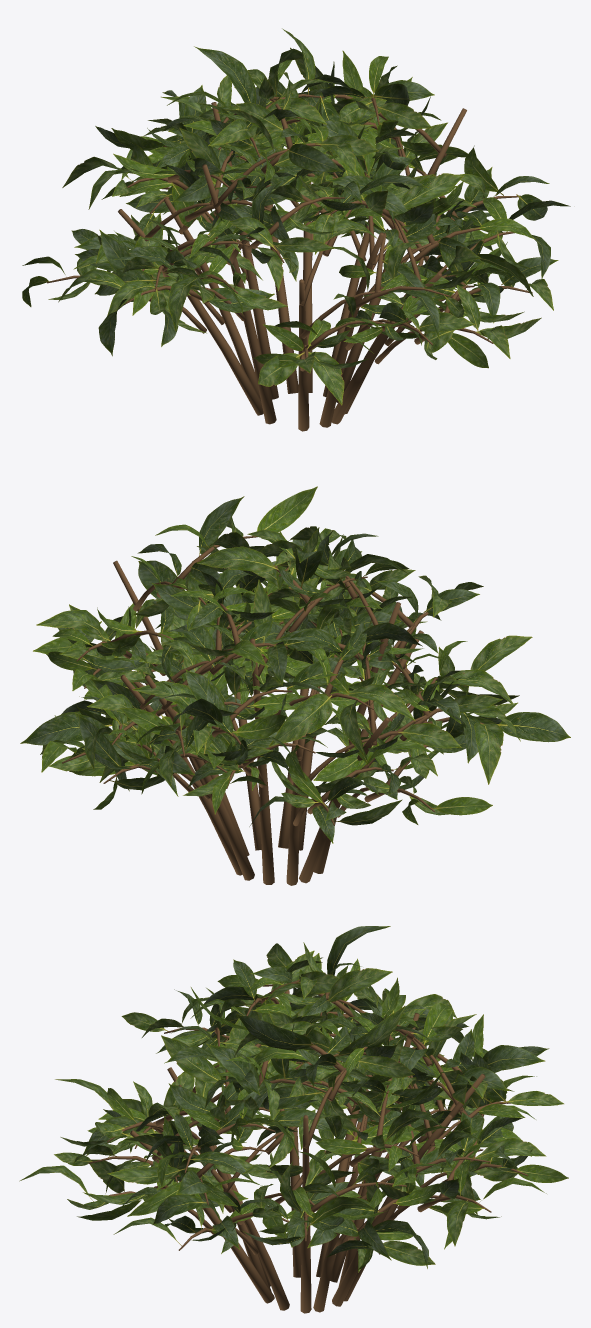
The model's file is shrub.glb.
The picture shows the model from 3 angles, top to bottom: view 1: azimuth 30°, elevation 25°; view 2: azimuth 150°, elevation 25°; view 3: azimuth 270°, elevation 25°; orthographic projection. The views are drawn at different scales.
Parts seen in each view (by area): view 1: shrub • curled atlas leaves, shrub • hierarchical woody structure; view 2: shrub • curled atlas leaves, shrub • hierarchical woody structure; view 3: shrub • curled atlas leaves, shrub • hierarchical woody structure.
Part boxes in pixels (left/top/right/bottom): shrub • curled atlas leaves: left=22, top=28, right=570, bottom=405; shrub • hierarchical woody structure: left=47, top=94, right=532, bottom=431; shrub • curled atlas leaves: left=20, top=486, right=570, bottom=843; shrub • hierarchical woody structure: left=62, top=536, right=483, bottom=885; shrub • curled atlas leaves: left=19, top=926, right=568, bottom=1272; shrub • hierarchical woody structure: left=88, top=979, right=527, bottom=1313.
Size of the model in its own units: 1.56 by 1.09 by 1.58.
2 materials, 1 textured.
